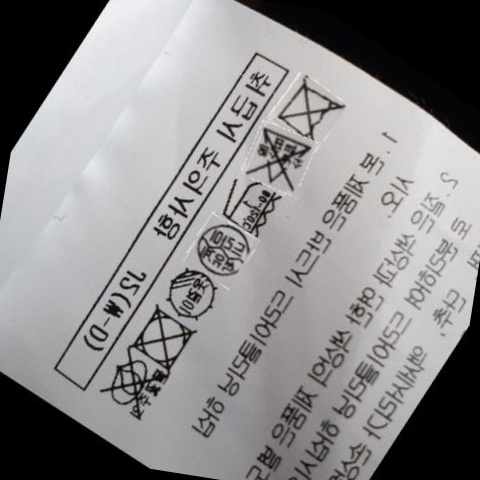DN_bleach: (242, 126, 309, 193)
DN_tumble_dry: (130, 305, 191, 371)
DN_wash: (273, 77, 340, 142)
dry_clean_petrol_only: (186, 219, 256, 283)
iron_low: (212, 174, 281, 234)
line_dry_in_shade: (158, 262, 219, 324)
